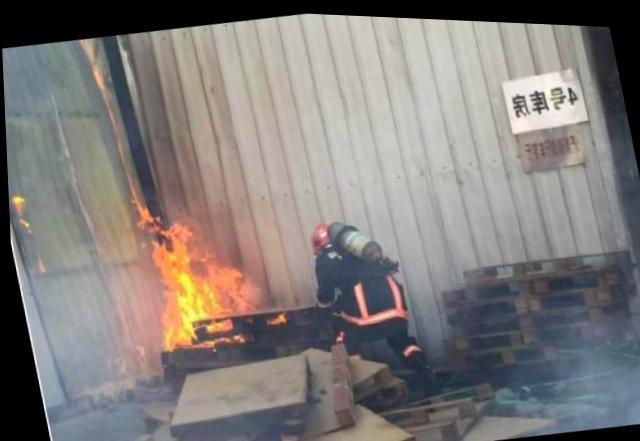fire: (161, 260, 240, 321), (150, 221, 192, 274), (161, 313, 194, 345)
